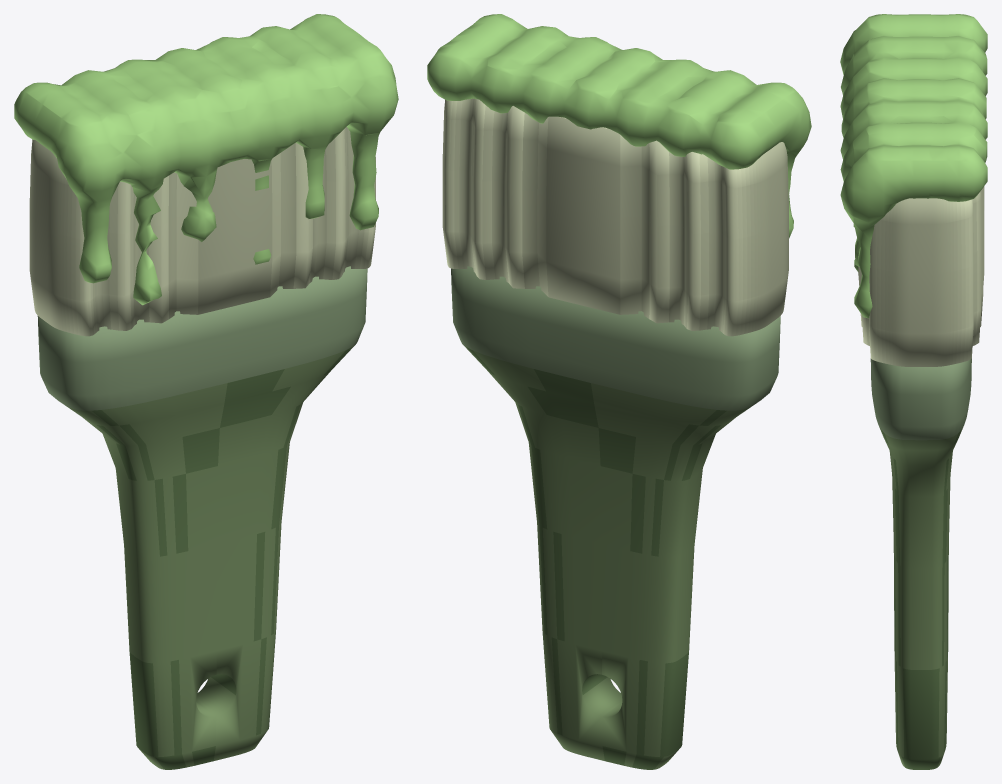
The model's file is Paintbrush_Snake.glb.
3 renders of one model, left to right at view 1: azimuth 30°, elevation 25°; view 2: azimuth 150°, elevation 25°; view 3: azimuth 270°, elevation 25°, orthographic. The views are drawn at different scales.
Visible parts, largest first — view 1: Body, Paint, Bristles; view 2: Body, Bristles, Paint; view 3: Paint, Body, Bristles.
Boxes of the visible parts, x1,y1,x2,y2 form: Body: [37, 266, 367, 769]; Paint: [14, 14, 398, 305]; Bristles: [29, 127, 375, 336]; Body: [451, 266, 780, 769]; Bristles: [442, 98, 788, 336]; Paint: [427, 14, 811, 238]; Paint: [840, 14, 987, 318]; Body: [870, 358, 971, 769]; Bristles: [858, 186, 984, 366].
Size of the model in its own units: 1.23 by 2.44 by 0.4919.
